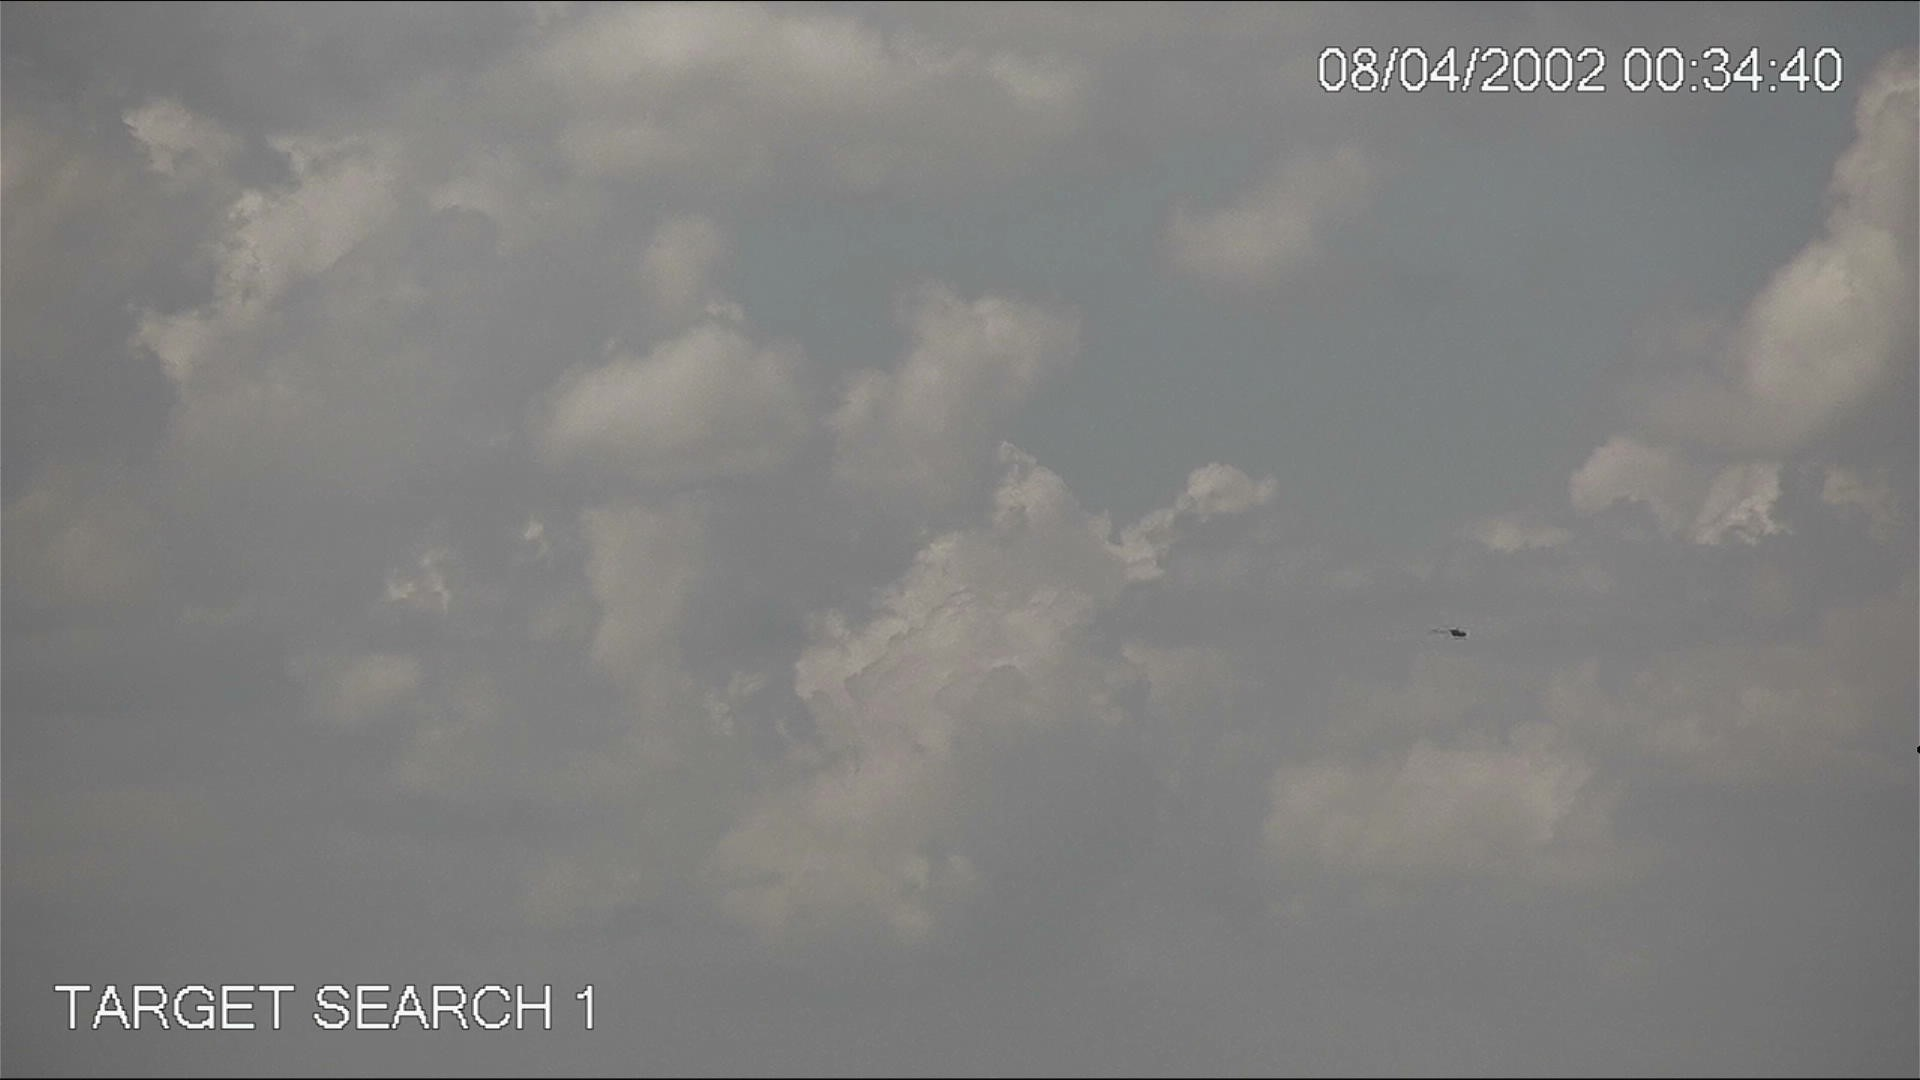SU_30: (1425, 622, 1472, 644)
